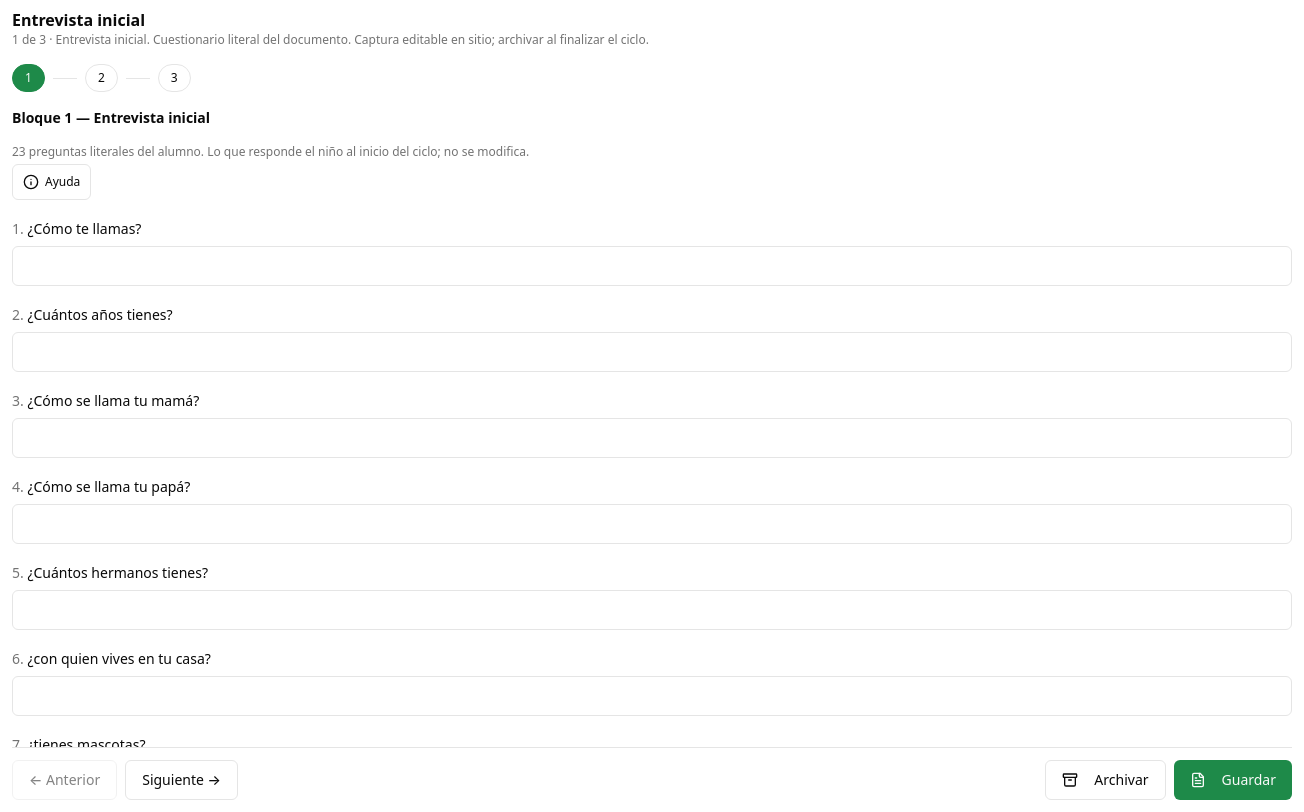
EntrevistaInicialForm — IMPL-20260821-01 (stepper UX) › DEC-20260821-02 — guía contextual por bloque › existe un control "Ayuda" en cada uno de los 3 bloques
The image size is (1304, 812).
Check: the text with test id "section-help-infantil-bloque-1-breve" shows "23 preguntas literales del alumno", box [12,143,529,160]
# Ir al bloque 2 vía stepper.
Click the button with test id "entrevista-stepper-next": (182, 780) [125,760,238,800]
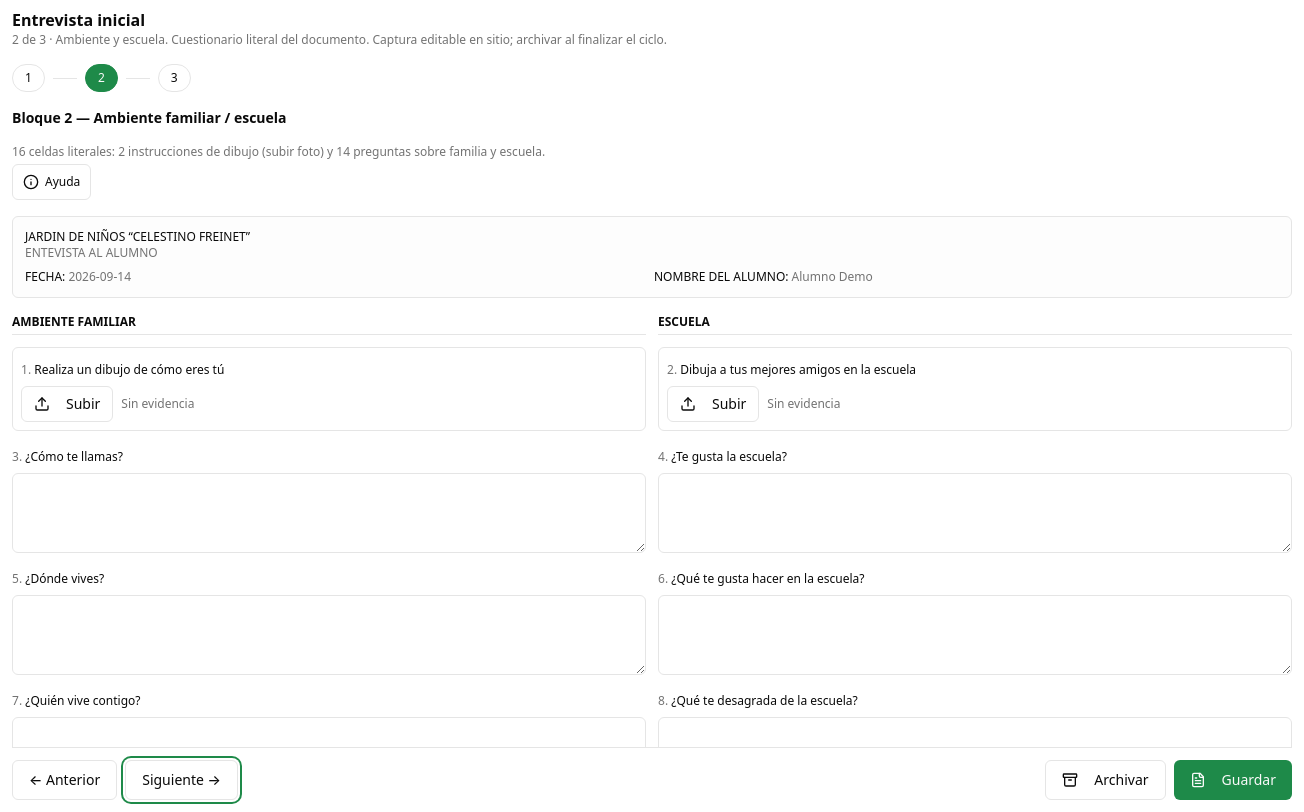
Check: the text with test id "section-help-infantil-bloque-2-breve" shows "16 celdas literales", box [12,143,545,160]
# Ir al bloque 3.
Click the button with test id "entrevista-stepper-next": (182, 780) [125,760,238,800]
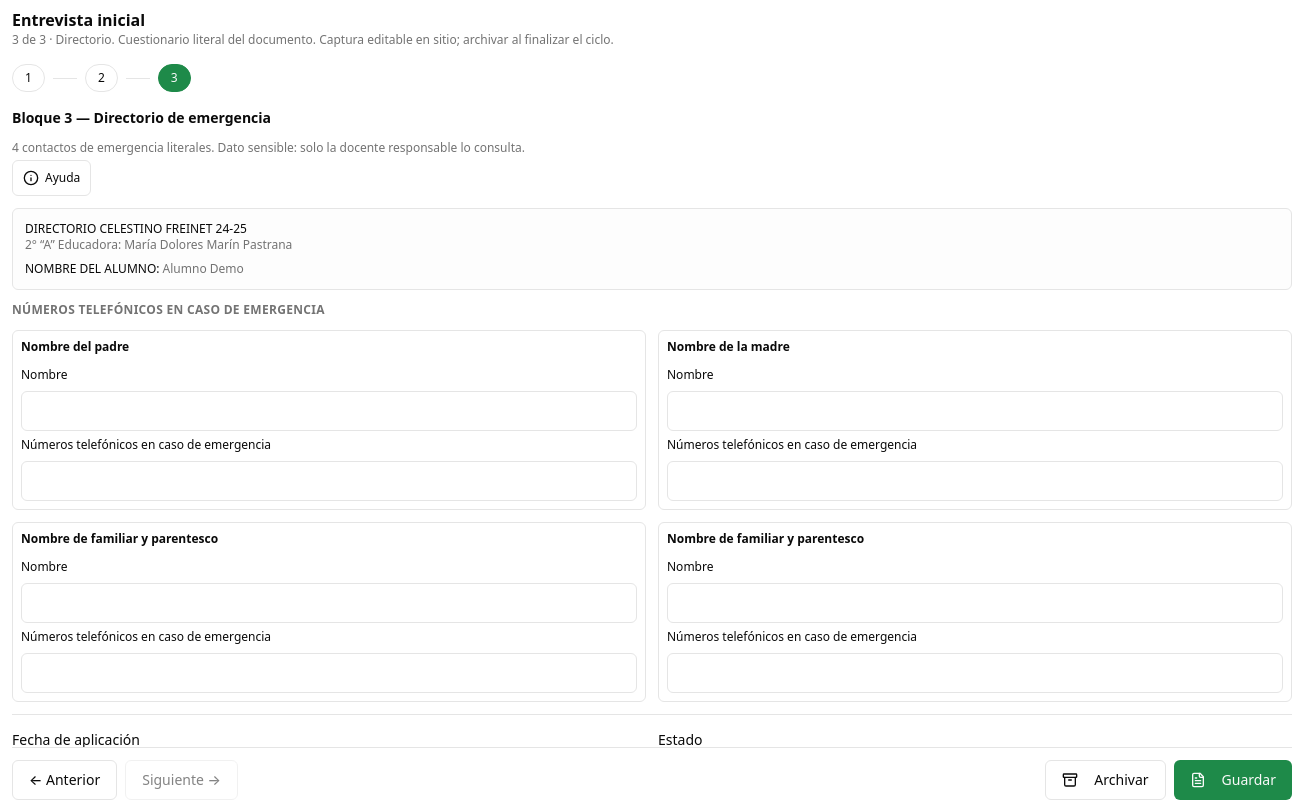
Check: the text with test id "section-help-infantil-bloque-3-breve" shows "4 contactos de emergencia", box [12,139,525,156]
